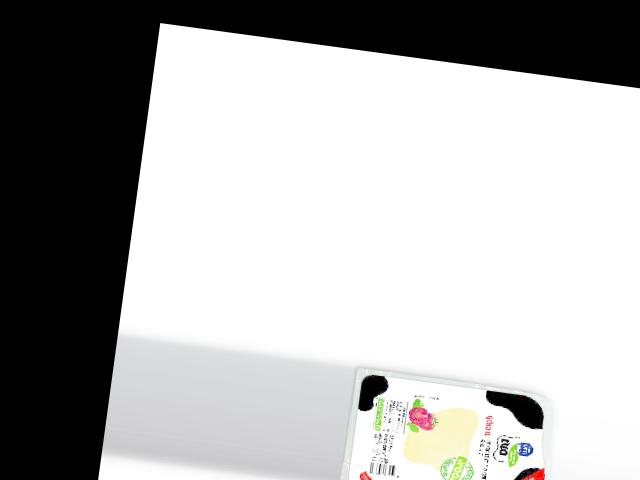cheese: (338, 366, 563, 480)
